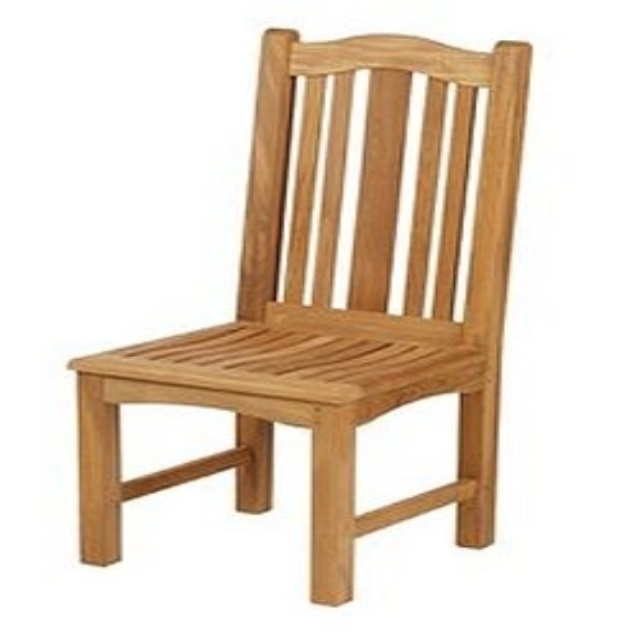obstacle: (69, 29, 527, 603)
